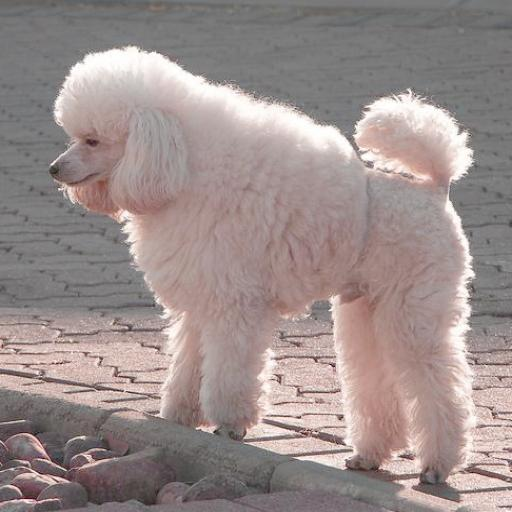dog_face: (41, 68, 190, 227)
